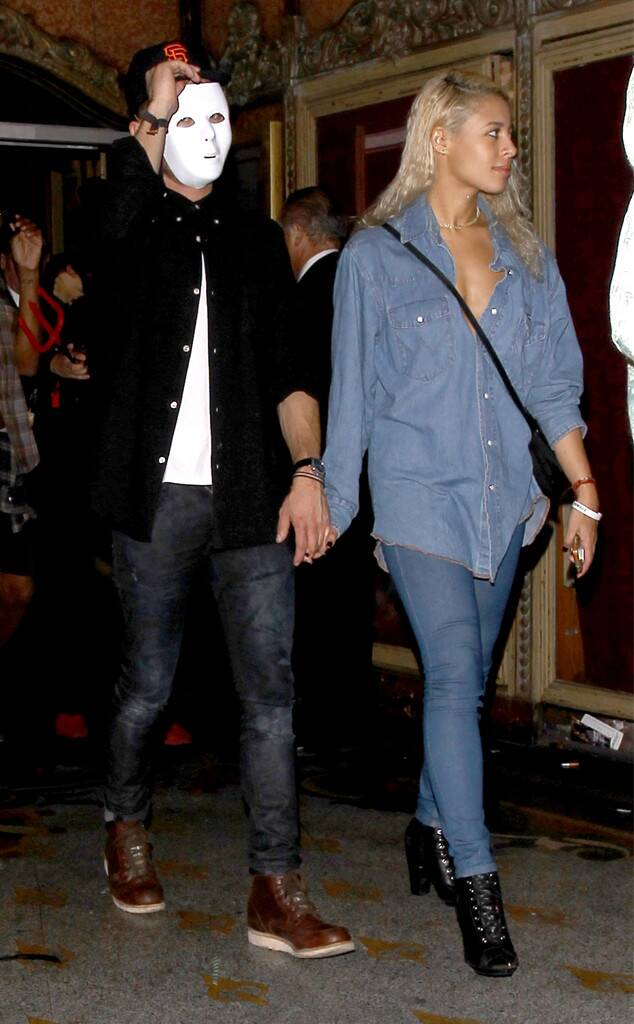Person: (296, 69, 602, 976), (77, 36, 359, 958)
